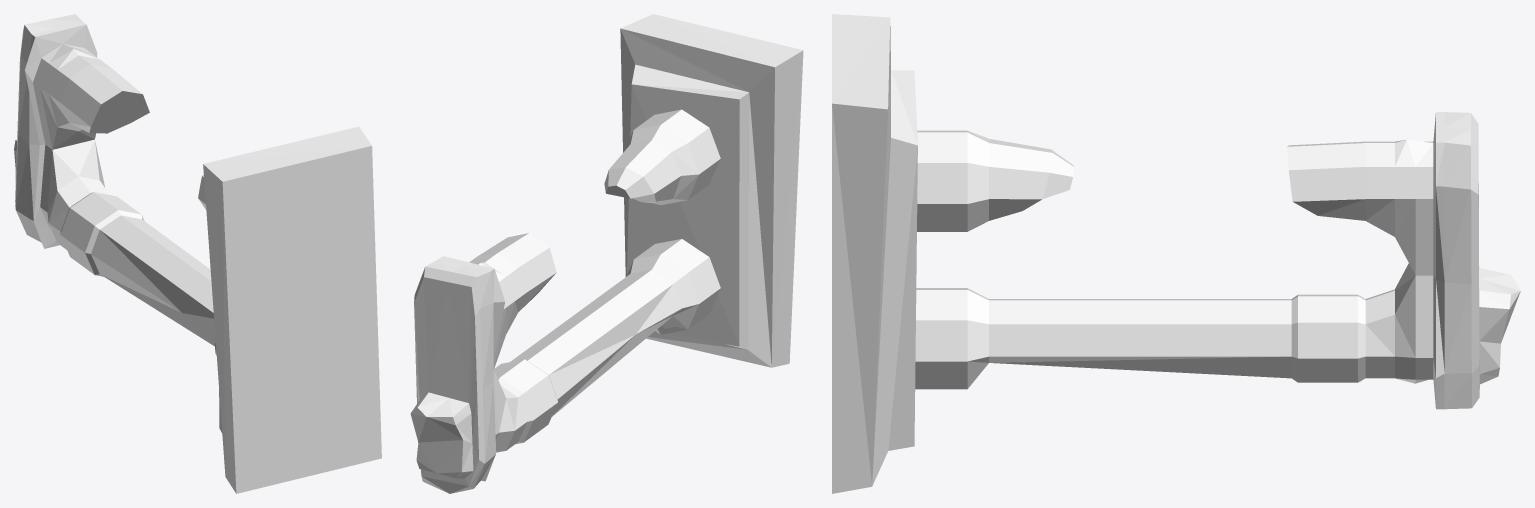
The model's file is venice_col_obj_2.fbx.
3 renders of one model, left to right at view 1: azimuth 30°, elevation 25°; view 2: azimuth 150°, elevation 25°; view 3: azimuth 270°, elevation 25°, orthographic. The views are drawn at different scales.
Parts seen in each view (by area): view 1: Cylinder.049; view 2: Cylinder.049; view 3: Cylinder.049.
Part boxes in pixels (x1,y1,x2,y2): Cylinder.049: [14, 14, 381, 493]; Cylinder.049: [410, 14, 803, 493]; Cylinder.049: [832, 14, 1520, 493].
Bounding box in the file's own units: 447 × 845 × 1370.
